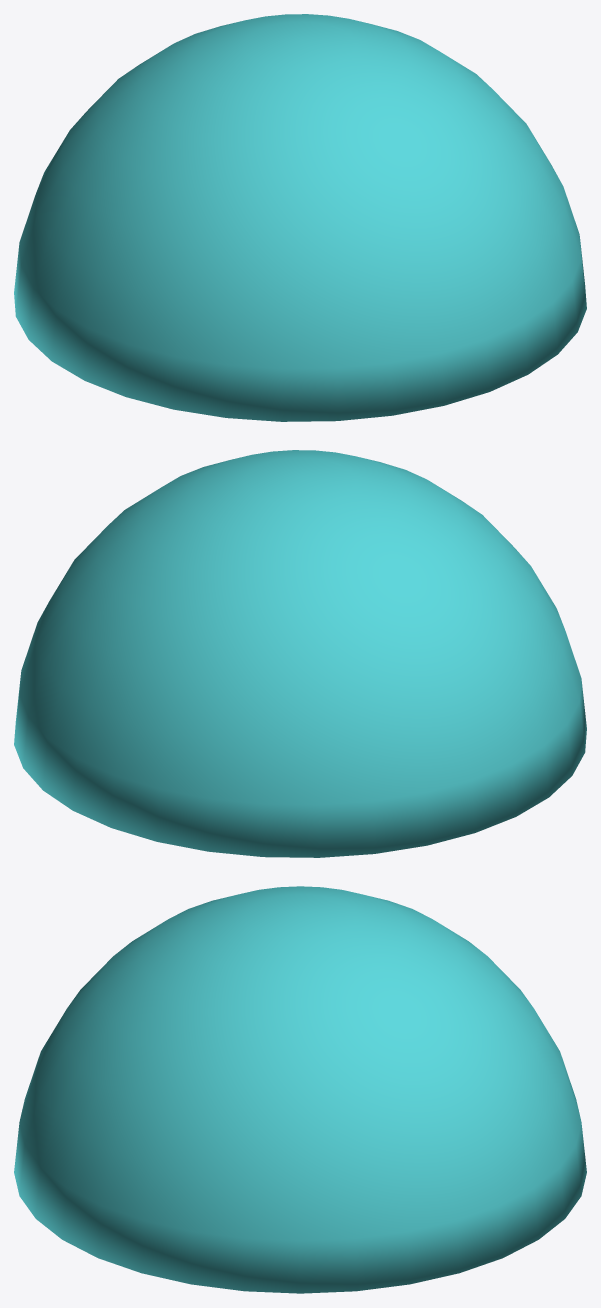
File: SM_Shield_Generator.fbx
The picture shows the model from 3 angles, top to bottom: view 1: azimuth 30°, elevation 25°; view 2: azimuth 150°, elevation 25°; view 3: azimuth 270°, elevation 25°; orthographic projection.
Visible parts, largest first — view 1: SM_Shield_Generator_Shield; view 2: SM_Shield_Generator_Shield; view 3: SM_Shield_Generator_Shield.
Boxes of the visible parts, left/top/right/bottom form: SM_Shield_Generator_Shield: left=14, top=14, right=586, bottom=421; SM_Shield_Generator_Shield: left=14, top=450, right=586, bottom=857; SM_Shield_Generator_Shield: left=14, top=886, right=586, bottom=1293.
Bounding box in the file's own units: 250 × 125 × 250.
